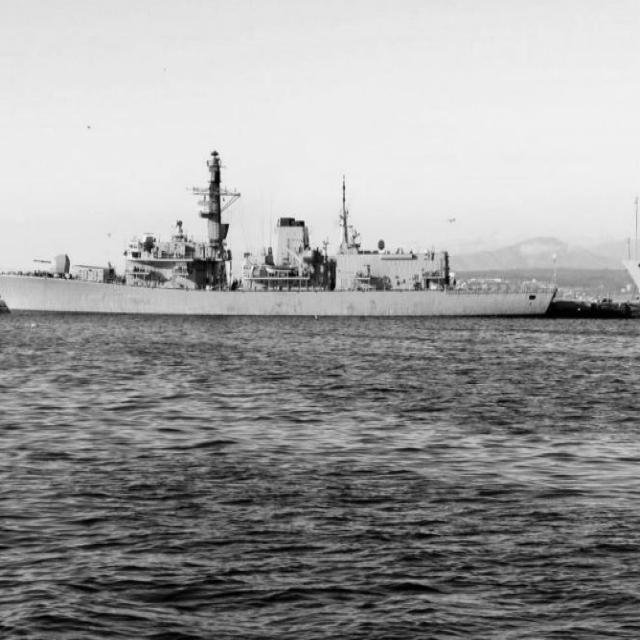Fragata: (1, 138, 563, 321)
